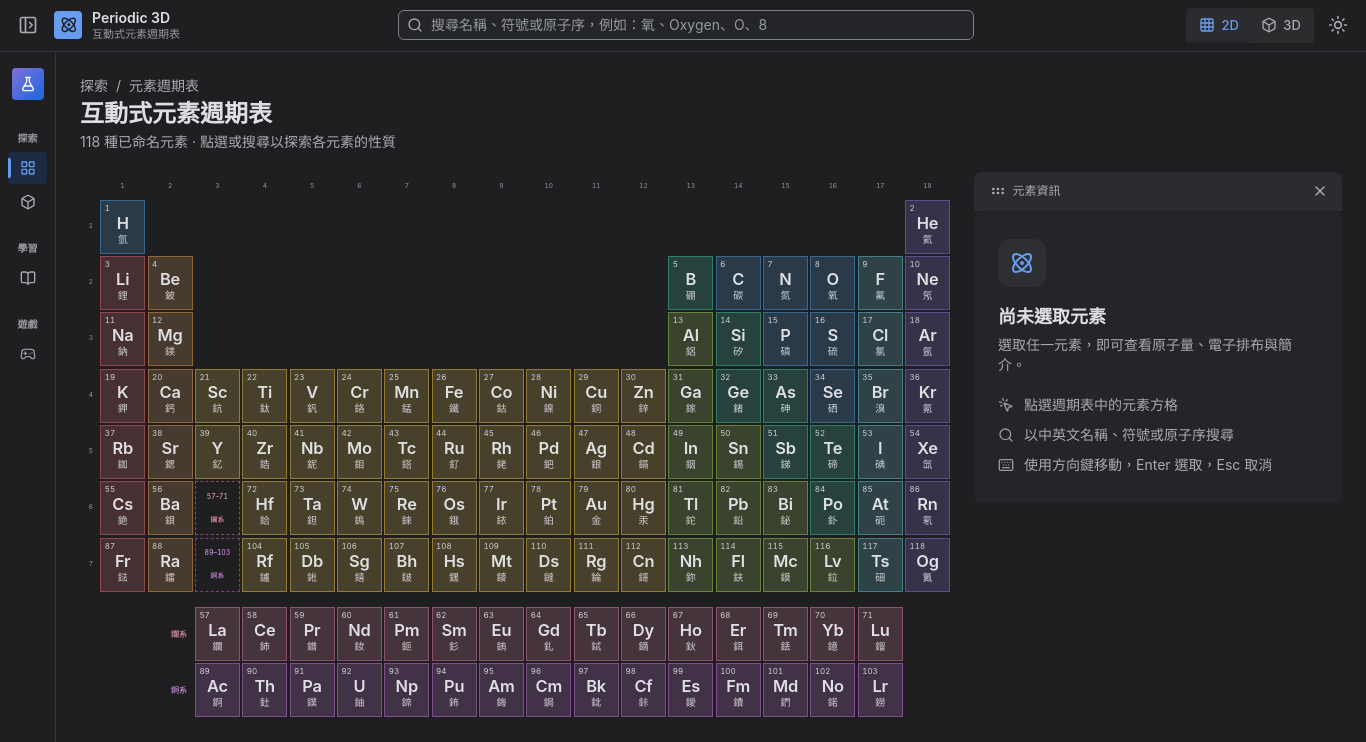
Test: PeriodicExplorer › shows primary and secondary tags, and opens a guide from a tag
The width and height of the screenshot is (1366, 742).
Click the button with aria-label "71 號元素" at (880, 634), box [858, 607, 903, 661]
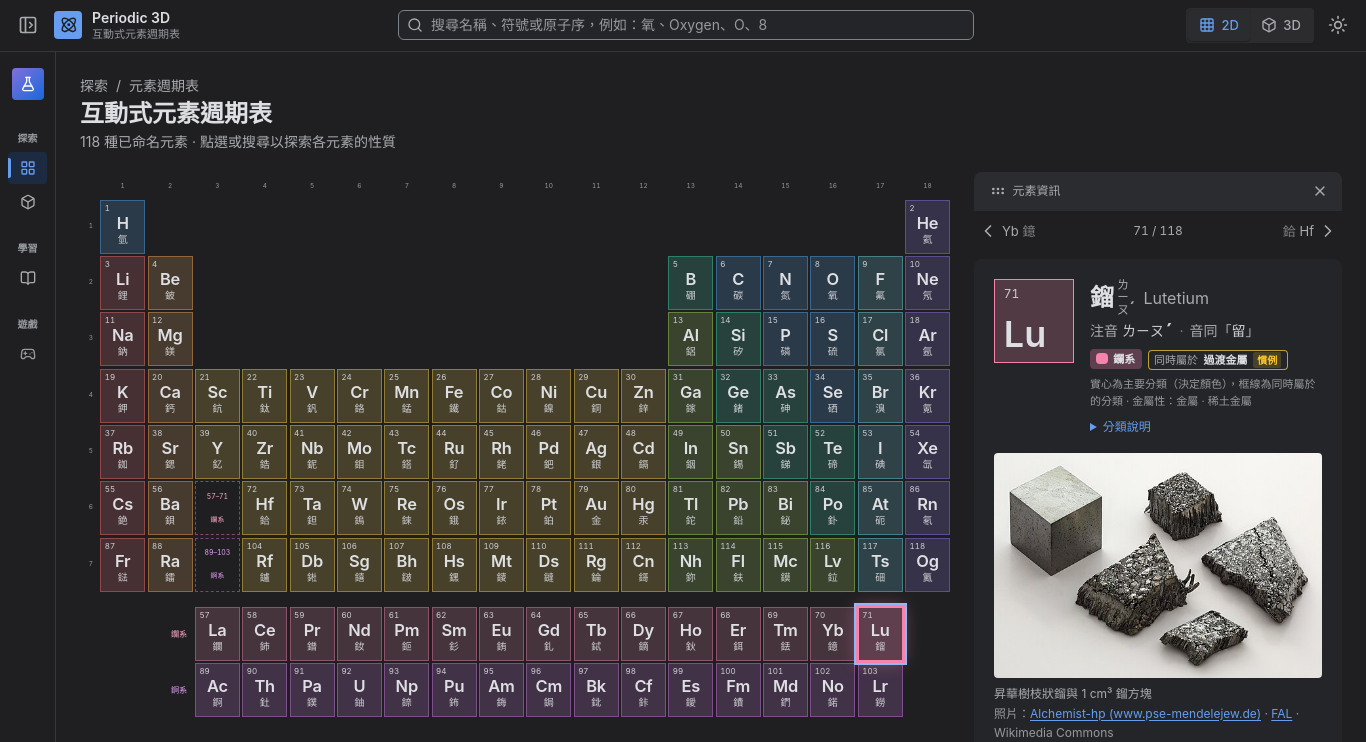
Expected: the button with aria-label "主要分類：鑭系" is shown
Expected: the button with aria-label "同時屬於：過渡金屬" is shown, [1148, 350, 1288, 370]
Click the button with aria-label "主要分類：鑭系" at (1116, 359), box [1090, 349, 1142, 369]
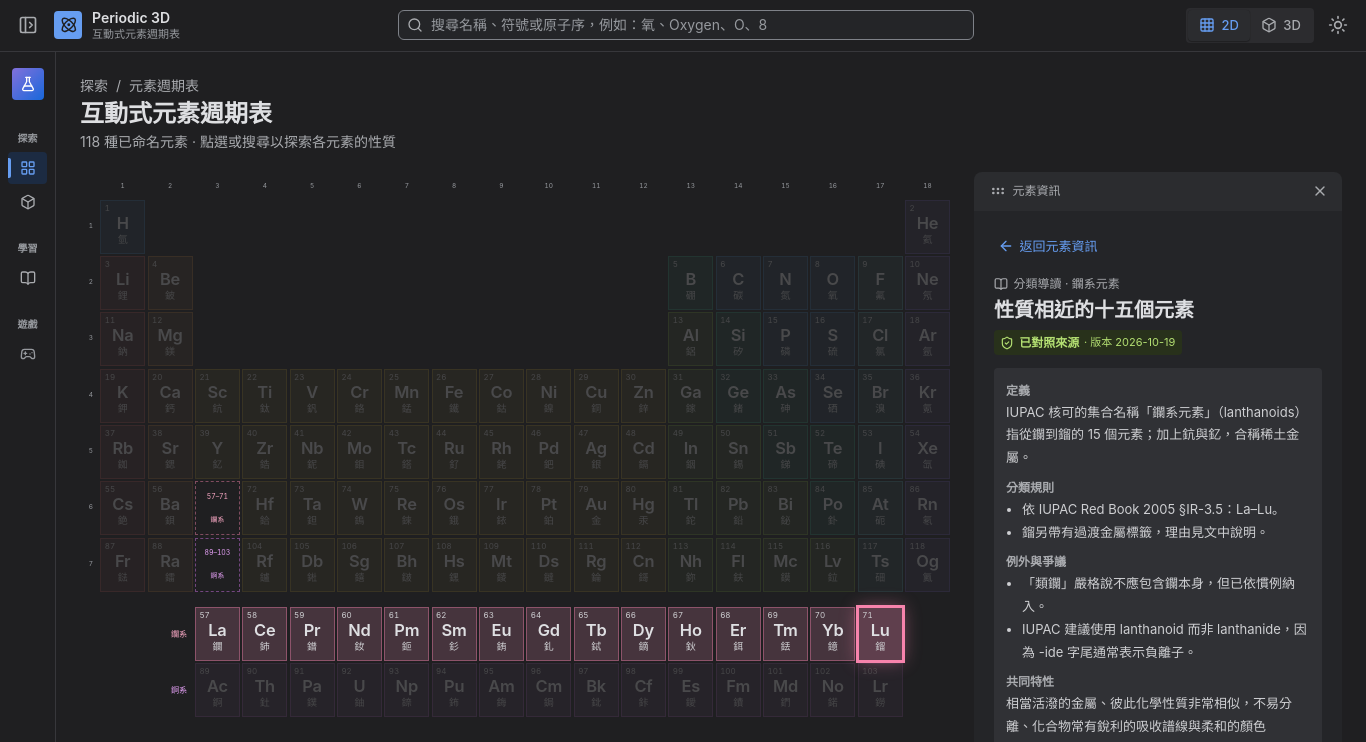
Expected: the heading "性質相近的十五個元素" is shown, [994, 298, 1194, 322]
